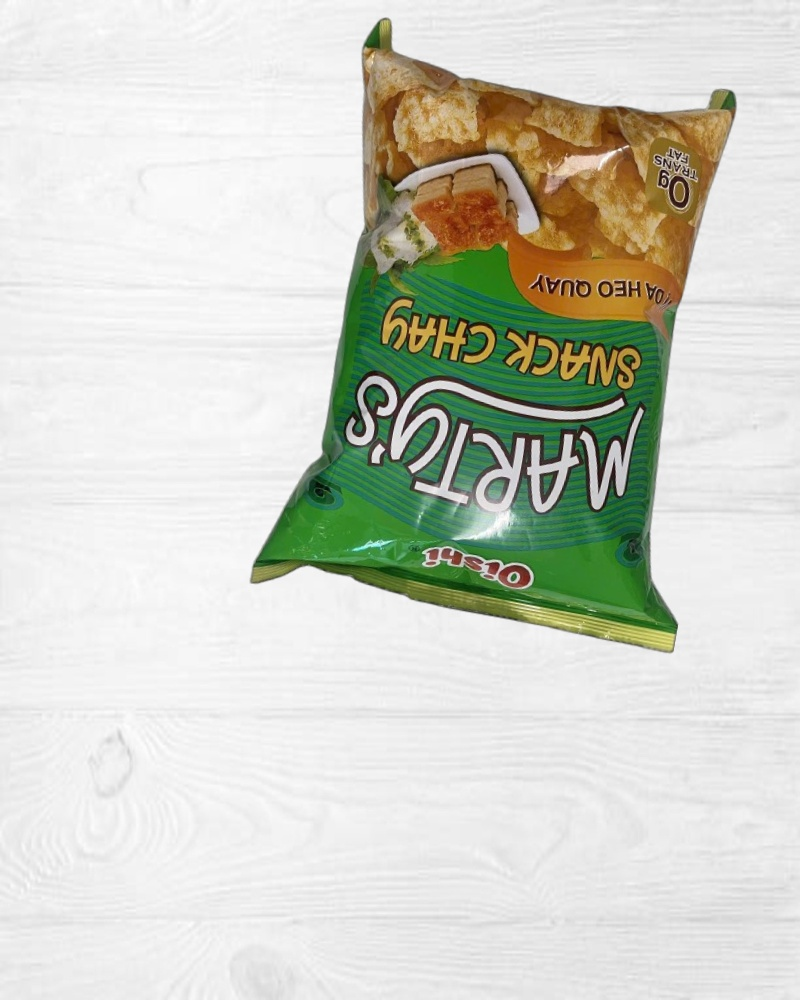Snack chay: (270, 18, 772, 658)
